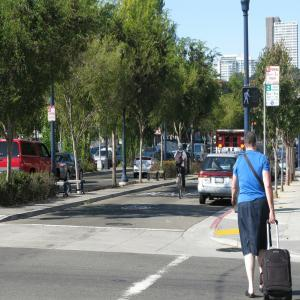Vehicle-registration-plate: (216, 178, 224, 185)
